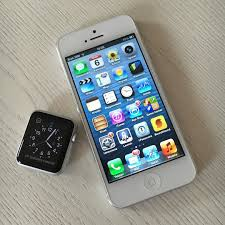iphone4: (36, 12, 200, 209)
